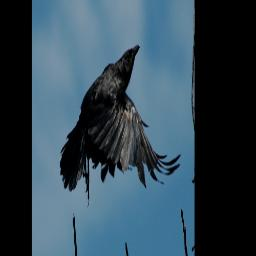Crow: (61, 41, 183, 209)
